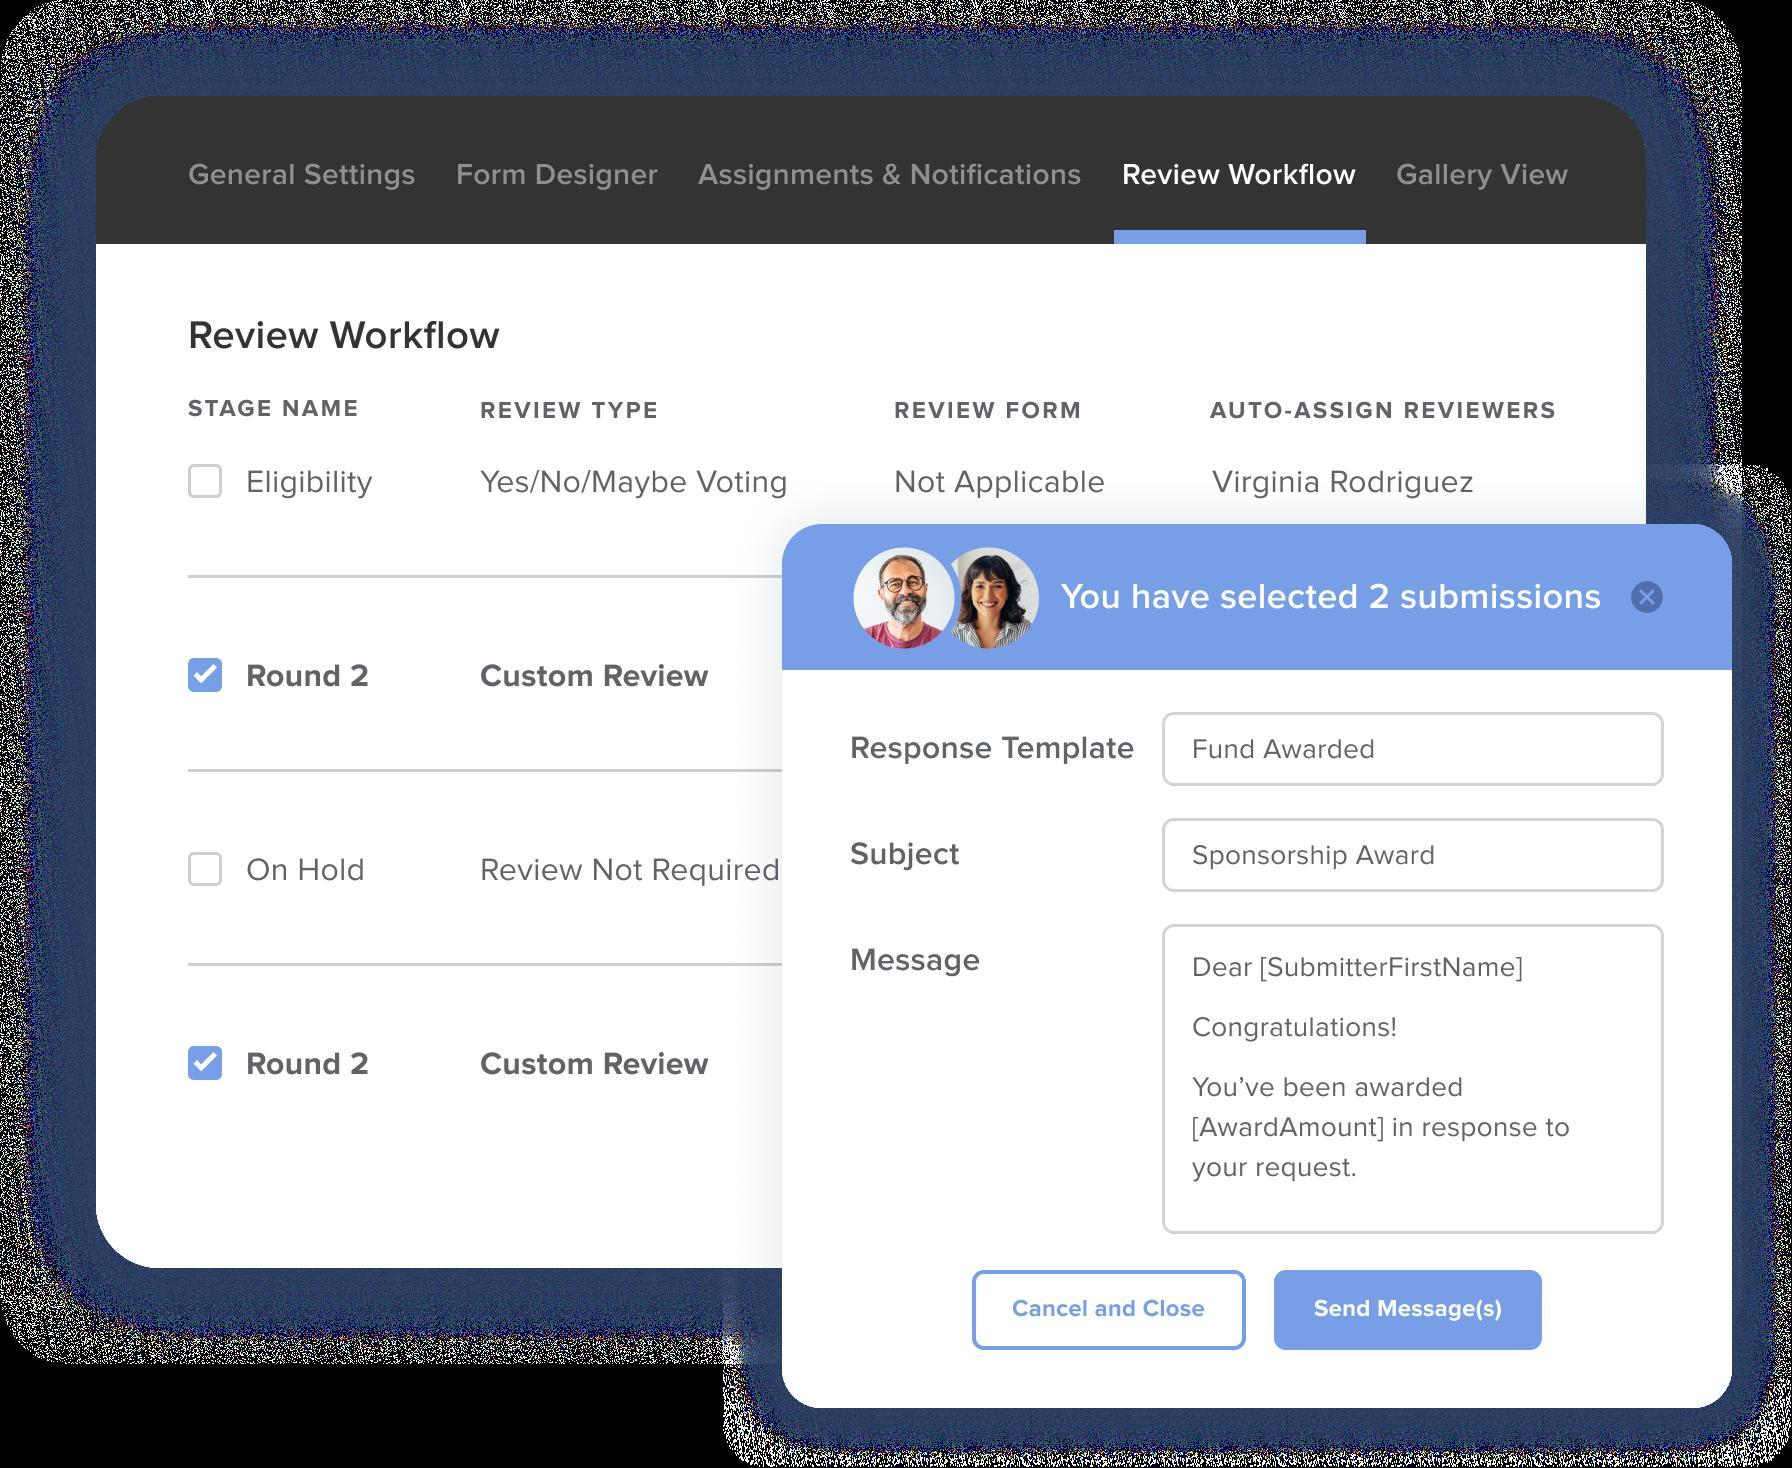button: (1274, 1270, 1543, 1352), (970, 1270, 1241, 1347)
checkbox: (188, 1047, 225, 1079), (189, 660, 223, 694), (189, 853, 223, 887), (189, 465, 225, 497)
input: (1164, 926, 1660, 1236), (1164, 715, 1665, 786), (1164, 820, 1665, 892)
label: (838, 725, 1137, 773), (851, 934, 985, 992), (243, 648, 380, 703), (241, 843, 371, 899), (244, 1039, 374, 1090), (246, 457, 375, 505), (848, 832, 961, 881)
